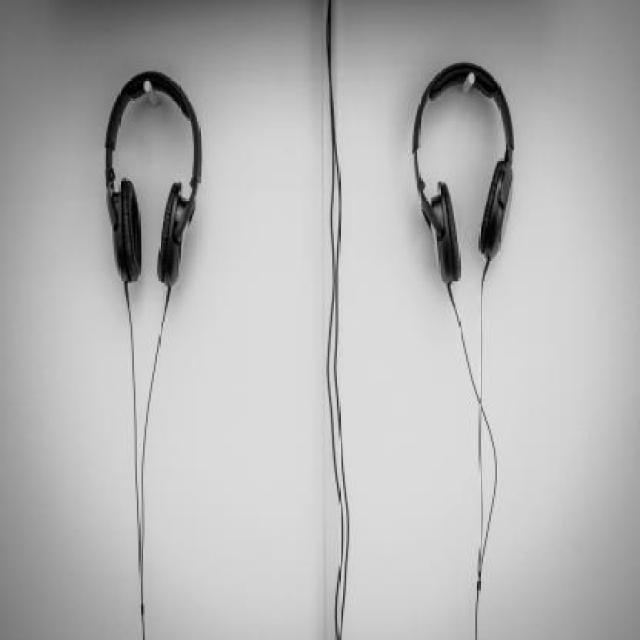earphone: (422, 35, 572, 303), (72, 59, 222, 301)
